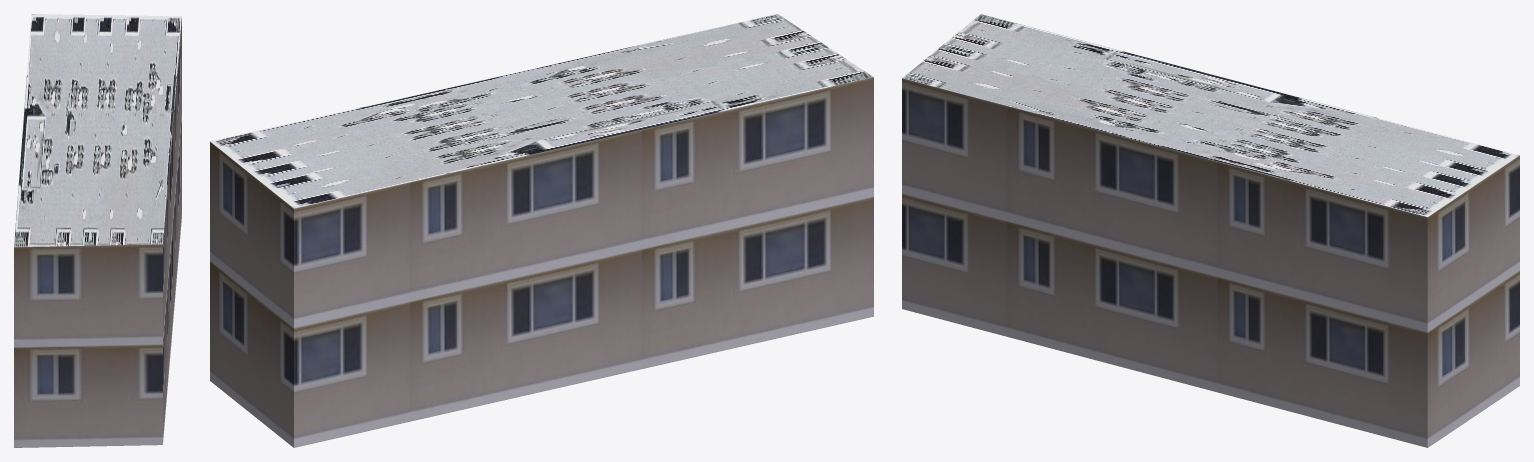
File: ResTex__1884.fbx
The picture shows the model from 3 angles, left to right: view 1: azimuth 30°, elevation 25°; view 2: azimuth 150°, elevation 25°; view 3: azimuth 270°, elevation 25°; orthographic projection. The views are drawn at different scales.
Visible parts, largest first — view 1: CityEngineMaterial_4_m, CityEngineMaterial_21_m; view 2: CityEngineMaterial_21_m, CityEngineMaterial_4_m; view 3: CityEngineMaterial_21_m, CityEngineMaterial_4_m.
Part boxes in pixels (x1,y1,x2,y2): CityEngineMaterial_4_m: (14,14,181,247); CityEngineMaterial_21_m: (14,18,181,447); CityEngineMaterial_21_m: (210,77,873,447); CityEngineMaterial_4_m: (210,14,873,208); CityEngineMaterial_21_m: (902,78,1519,447); CityEngineMaterial_4_m: (902,14,1519,217).
Size of the model in its own units: 11.33 by 6 by 14.56.
2 materials, 2 textured.
